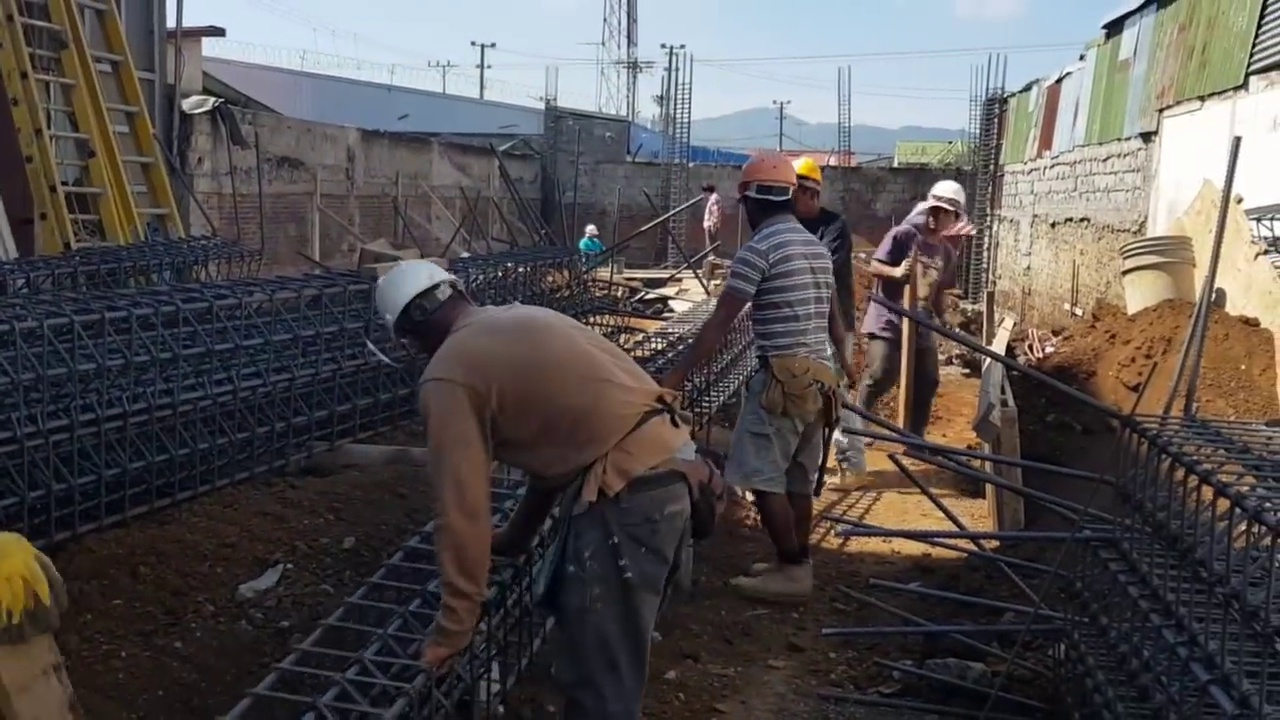helmet: (371, 255, 460, 342), (738, 151, 799, 197), (924, 179, 967, 216), (789, 157, 832, 187), (585, 225, 600, 235)
helmet-off: (699, 175, 718, 197)
helmet-on: (365, 256, 477, 361), (736, 152, 799, 234), (914, 180, 967, 250), (790, 155, 832, 228), (583, 225, 600, 239)
person: (363, 253, 709, 718), (666, 140, 848, 592), (861, 176, 984, 442), (794, 150, 862, 427), (695, 174, 725, 276), (574, 224, 602, 260)
